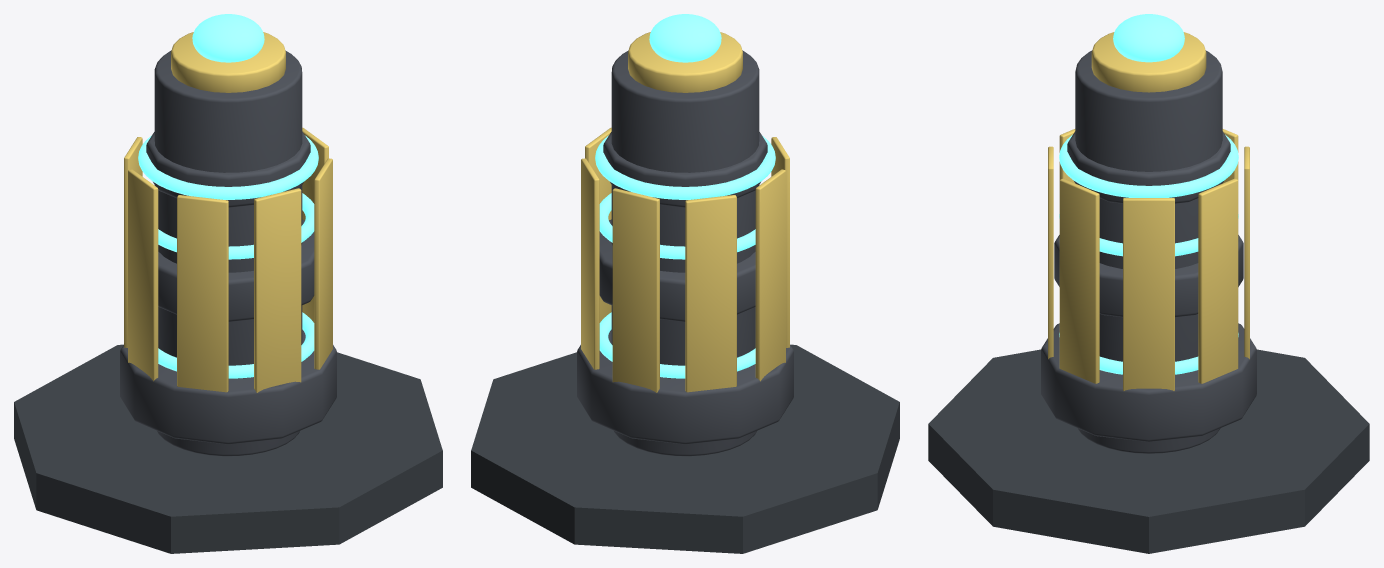
The model's file is lod_lab.glb.
3 renders of one model, left to right at view 1: azimuth 30°, elevation 25°; view 2: azimuth 150°, elevation 25°; view 3: azimuth 270°, elevation 25°, orthographic.
Visible parts, largest first — view 1: Sentinel_Tower_LOD0, Pedestal; view 2: Sentinel_Tower_LOD0, Pedestal; view 3: Sentinel_Tower_LOD0, Pedestal.
Part boxes in pixels (bbox=[...]): Sentinel_Tower_LOD0: bbox=[120, 14, 336, 456]; Pedestal: bbox=[14, 344, 442, 553]; Sentinel_Tower_LOD0: bbox=[577, 14, 793, 456]; Pedestal: bbox=[471, 344, 899, 553]; Sentinel_Tower_LOD0: bbox=[1041, 14, 1256, 453]; Pedestal: bbox=[928, 349, 1369, 553].
Size of what is drawn, in the model's own units: 2.7 by 2.98 by 2.7.
